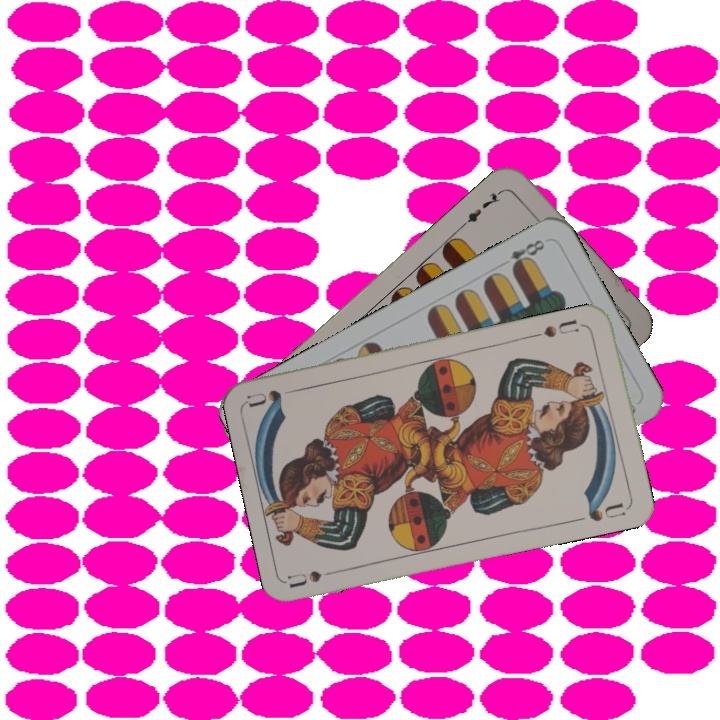E7: (457, 185, 505, 230)
E8: (495, 235, 548, 274)
SU: (285, 565, 345, 590), (540, 315, 589, 340)
